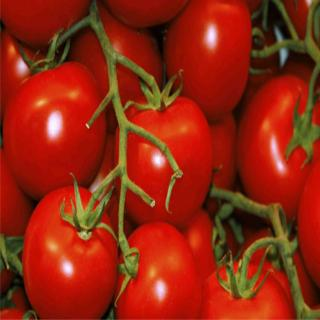Tomat: (1, 58, 113, 205), (113, 90, 215, 230), (23, 174, 120, 320), (237, 69, 320, 225), (164, 1, 253, 121), (114, 221, 203, 320)
